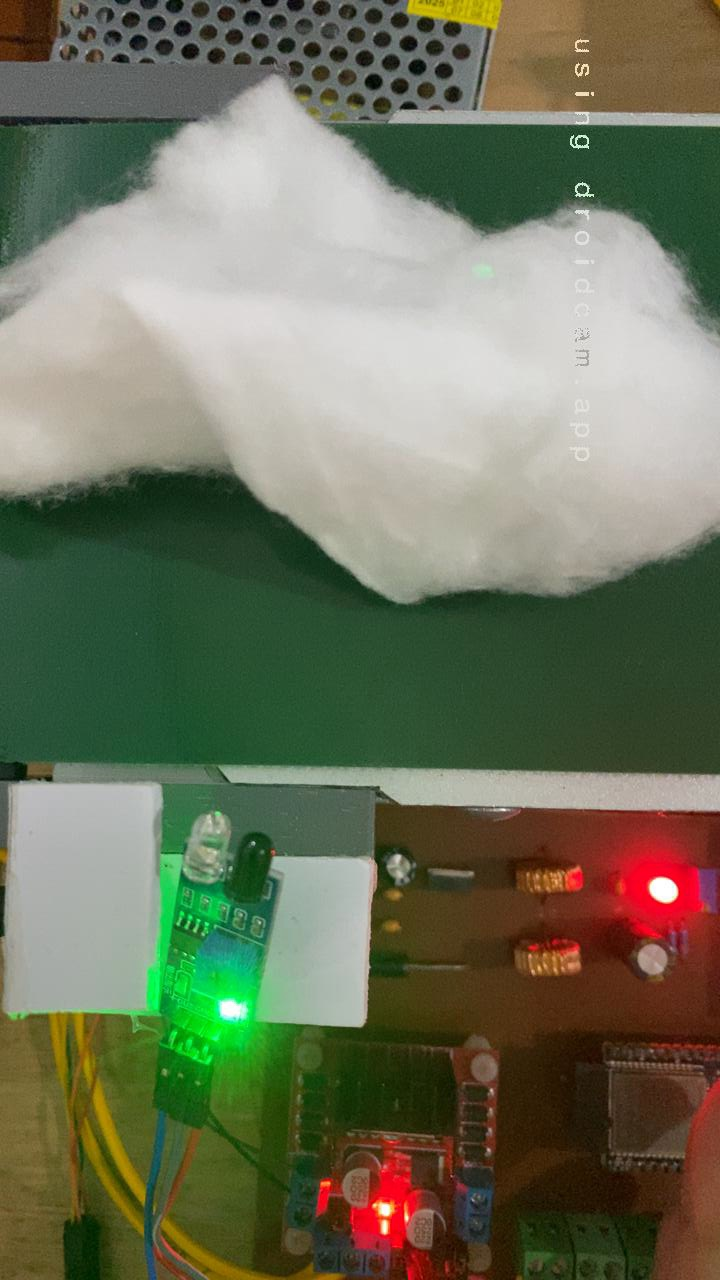cotton: (0, 124, 720, 610)
